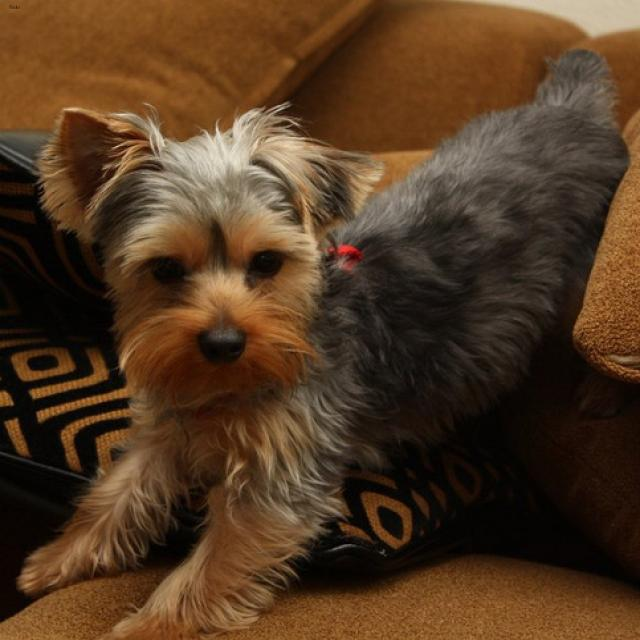dog-yorkshire_terrier: (1, 31, 637, 637)
